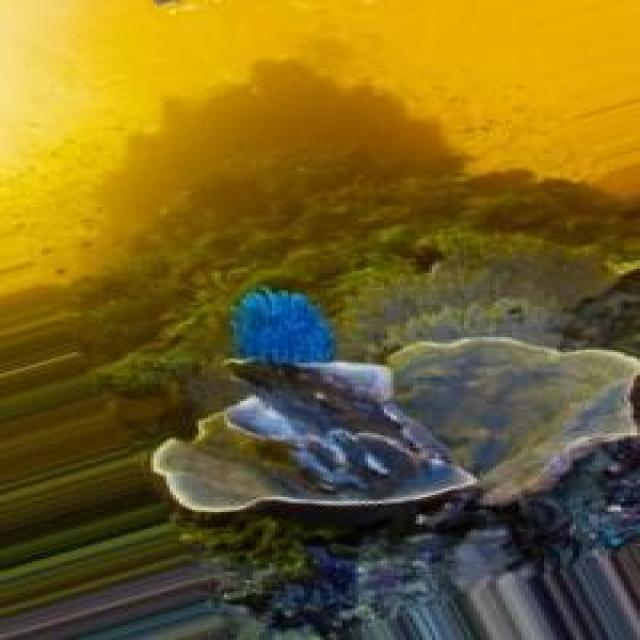Healthy: (151, 300, 478, 515), (391, 338, 640, 511), (238, 289, 337, 364)
